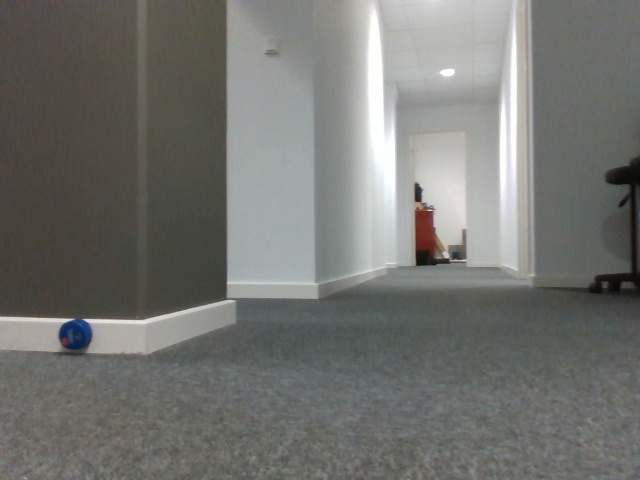alfa: (56, 317, 94, 351)
